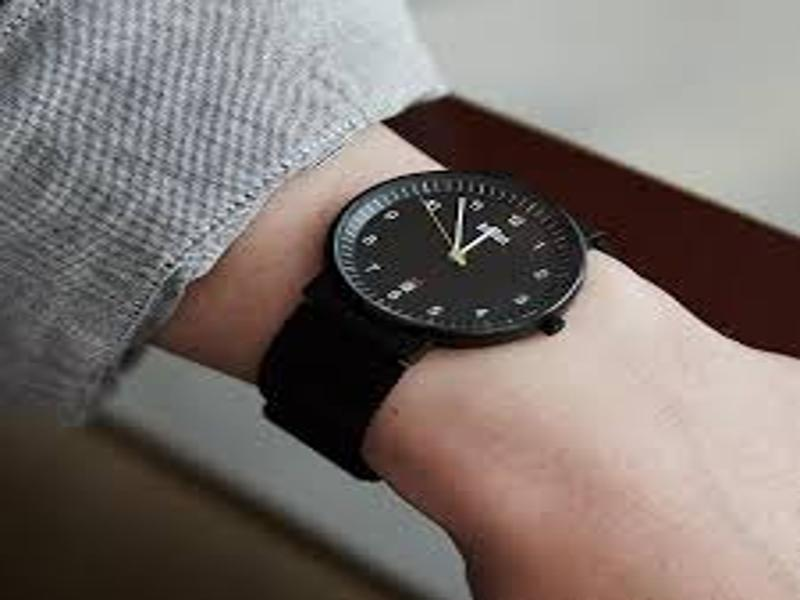watch: (254, 167, 601, 485)
